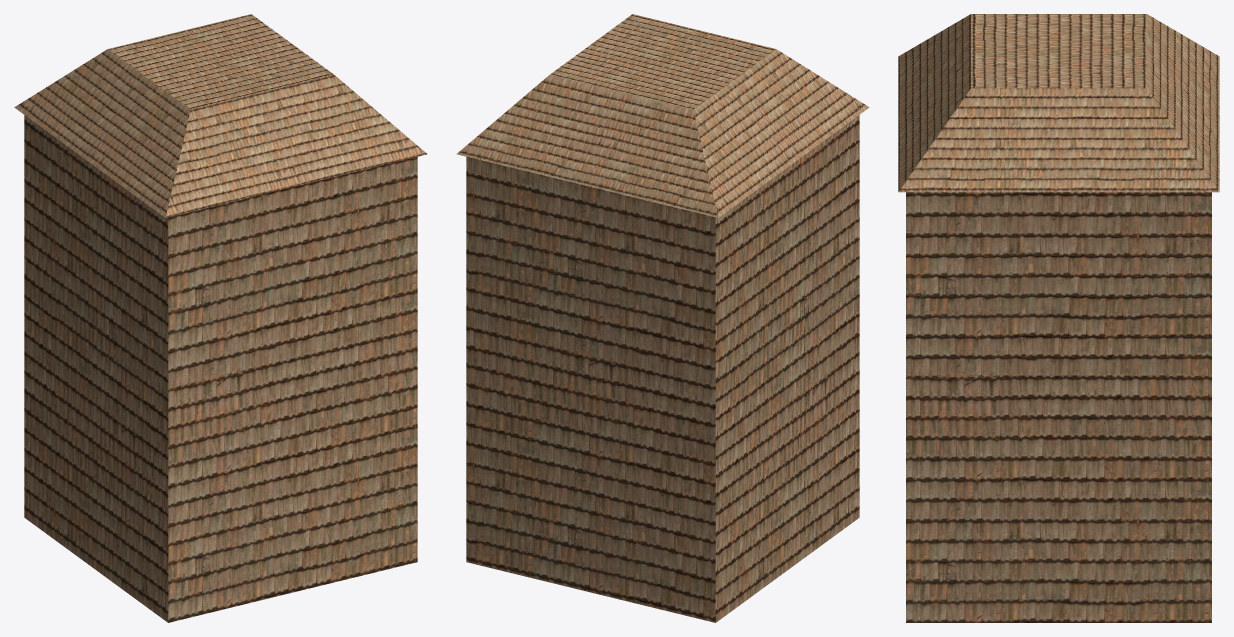
The model's file is BİNANASDN.fbx.
The picture shows the model from 3 angles, left to right: view 1: azimuth 30°, elevation 25°; view 2: azimuth 150°, elevation 25°; view 3: azimuth 270°, elevation 25°; orthographic projection. The views are drawn at different scales.
Parts seen in each view (by area): view 1: Cube; view 2: Cube; view 3: Cube.
Boxes of the visible parts, box(x1,y1,x2,y2) form: Cube: box(14, 14, 427, 622); Cube: box(456, 14, 869, 622); Cube: box(898, 14, 1219, 622).
Bounding box in the file's own units: 210 × 366 × 210.
